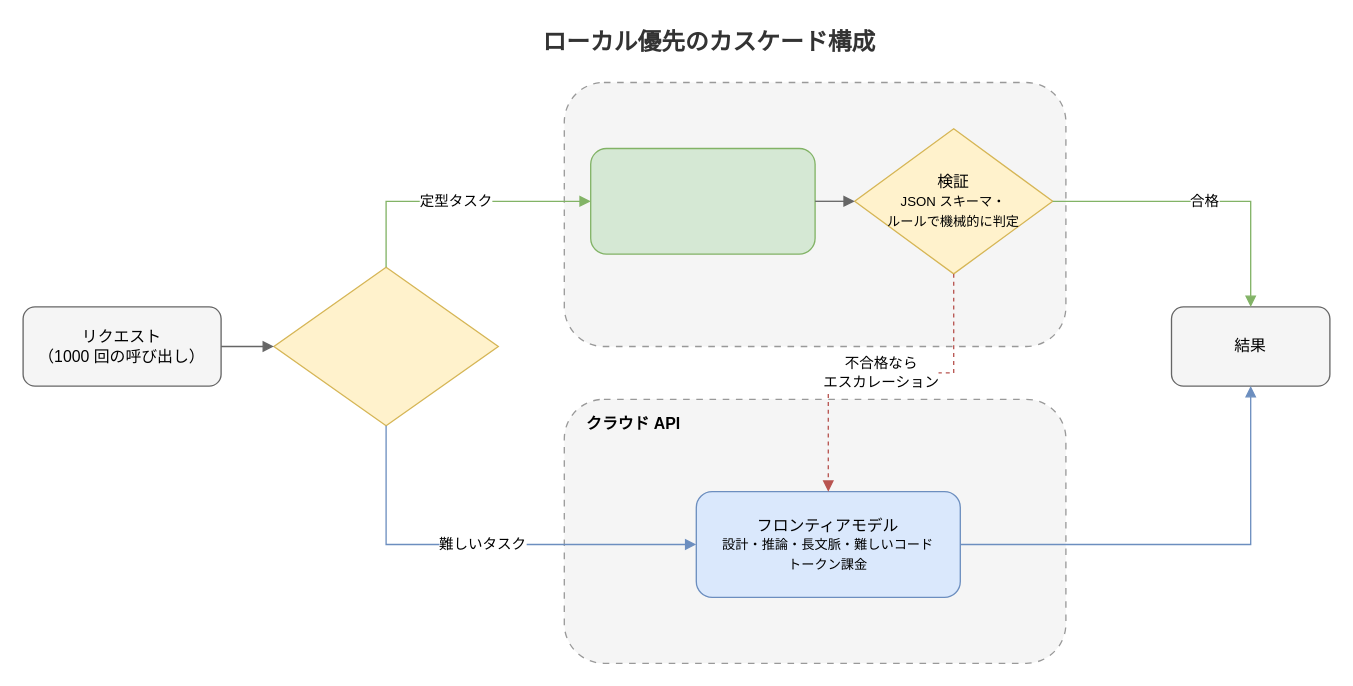
This 1353x686 diagram has some shape labels left out. The box of each missing label's shape, as (x1, y1, x2, y2) in pixels:
ルーター タスク種別をルールで判定: (273, 266, 498, 426)
小型ローカルモデル 3B〜8B / Ollama・llama.cpp 分類・抽出・整形・短い要約: (589, 147, 815, 254)
手元のマシン: (563, 81, 1066, 346)
